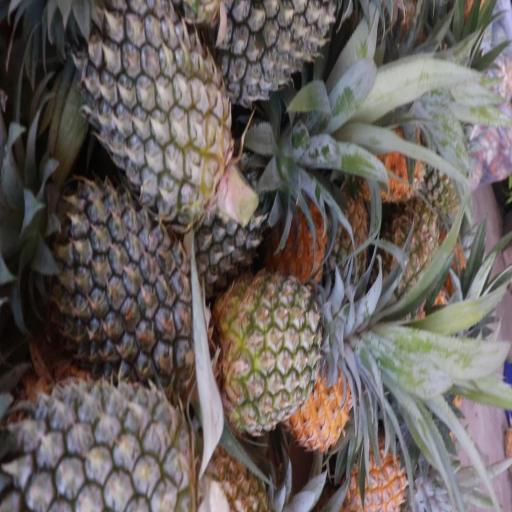------------------------------: (204, 272, 333, 432)
